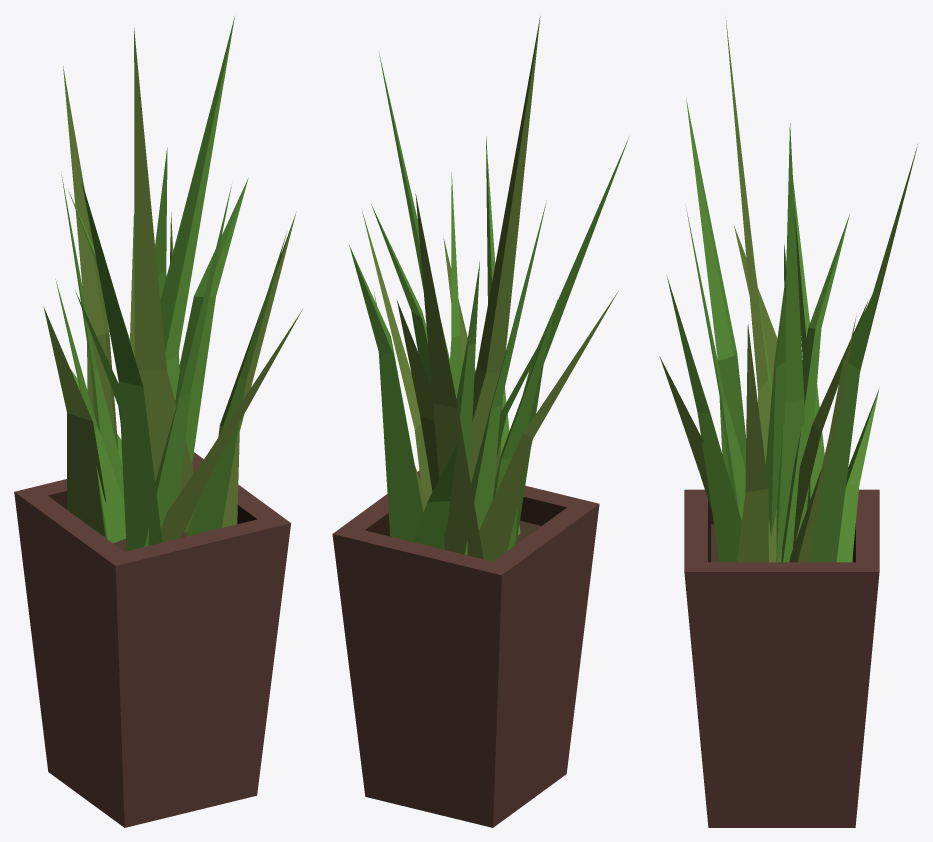
File: ChurchPlant2.glb
The picture shows the model from 3 angles, left to right: view 1: azimuth 30°, elevation 25°; view 2: azimuth 150°, elevation 25°; view 3: azimuth 270°, elevation 25°; orthographic projection. The views are drawn at different scales.
Parts seen in each view (by area): view 1: ChurchPlant2; view 2: ChurchPlant2; view 3: ChurchPlant2.
Part boxes in pixels (box(x1,y1,x2,y2)): ChurchPlant2: box(14, 16, 302, 827); ChurchPlant2: box(332, 16, 629, 827); ChurchPlant2: box(659, 17, 917, 827).
Bounding box in the file's own units: 0.5938 × 1.72 × 0.5324.
1 material, 1 textured.
